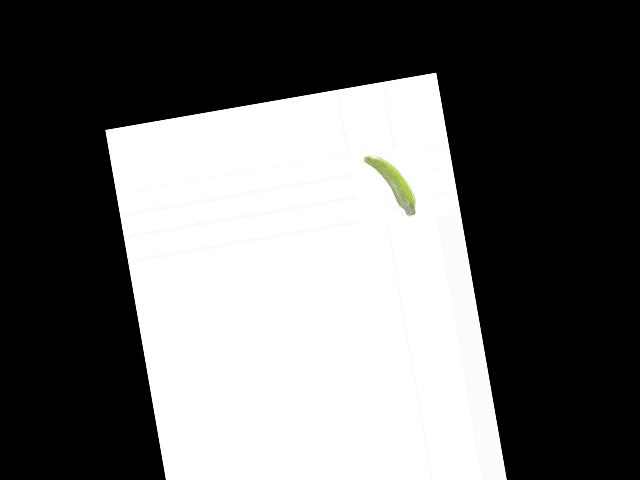cucumber: (362, 149, 418, 223)
